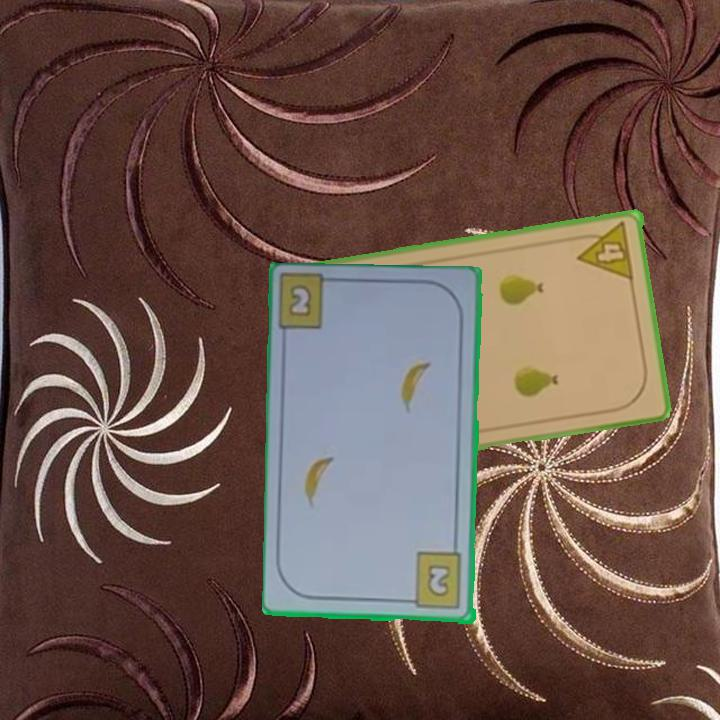2b: (403, 550, 466, 612), (288, 285, 313, 317)
4p: (572, 219, 637, 284)
